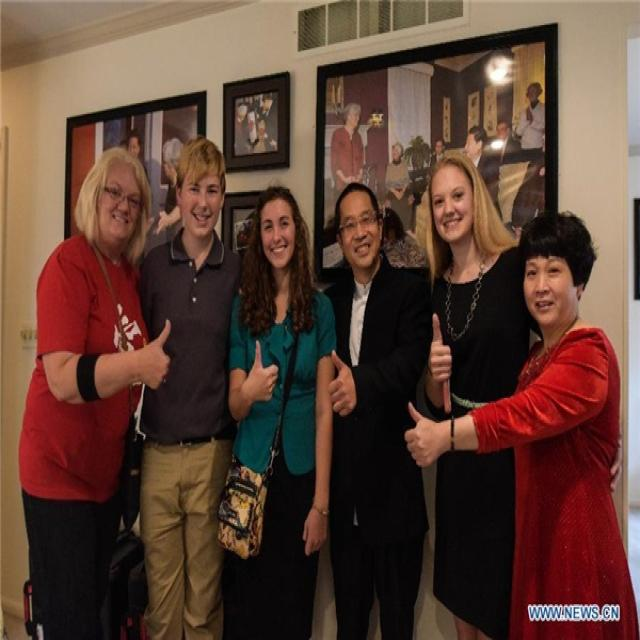body: (400, 207, 639, 638), (420, 153, 625, 634), (13, 141, 173, 638), (211, 182, 339, 638), (134, 134, 248, 640), (319, 176, 434, 638), (324, 81, 547, 212), (119, 123, 189, 220), (230, 86, 278, 158)
